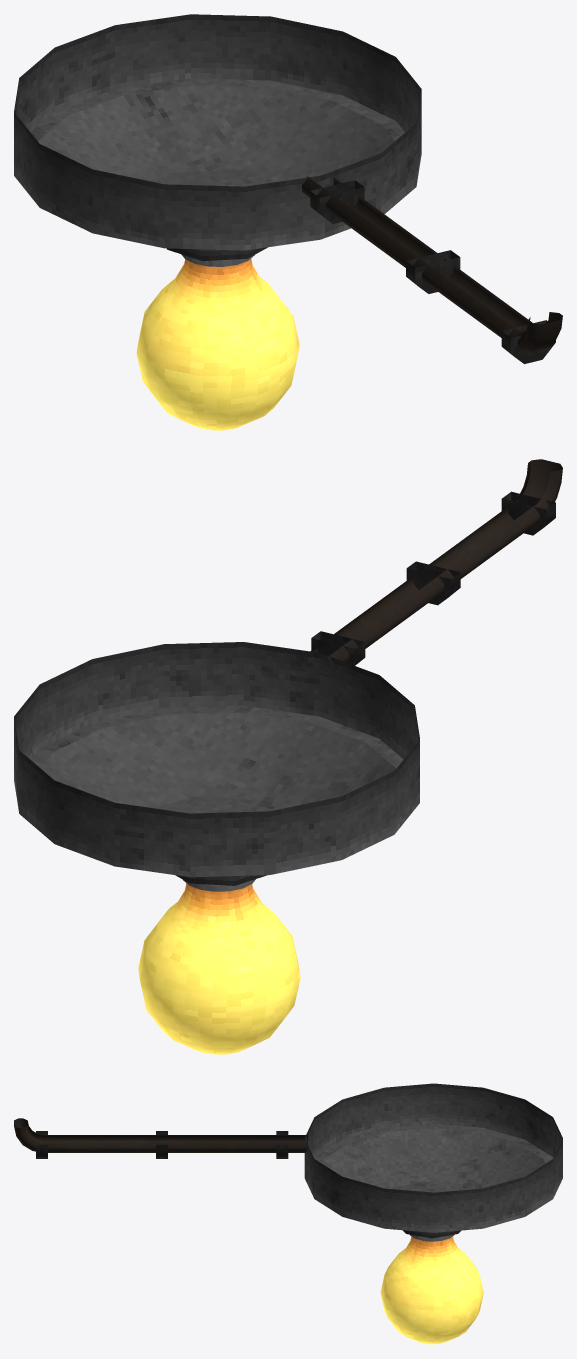
Rendered from ceiling_lamp.glb.
The picture shows the model from 3 angles, top to bottom: view 1: azimuth 30°, elevation 25°; view 2: azimuth 150°, elevation 25°; view 3: azimuth 270°, elevation 25°; orthographic projection. The views are drawn at different scales.
Parts seen in each view (by area): view 1: ceiling_lamp_mp_1_on, ceiling_lamp_mp_1_off; view 2: ceiling_lamp_mp_1_on, ceiling_lamp_mp_1_off; view 3: ceiling_lamp_mp_1_on.
Boxes of the visible parts, x1=… form: ceiling_lamp_mp_1_on: x1=14, y1=14, x2=562, y2=430; ceiling_lamp_mp_1_off: x1=302, y1=175, x2=562, y2=363; ceiling_lamp_mp_1_on: x1=14, y1=459, x2=562, y2=1054; ceiling_lamp_mp_1_off: x1=302, y1=459, x2=562, y2=672; ceiling_lamp_mp_1_on: x1=14, y1=1083, x2=562, y2=1344.
Bounding box in the file's own units: 0.215 × 0.1988 × 0.4568.
Materials: 5 (5 with a texture image).
